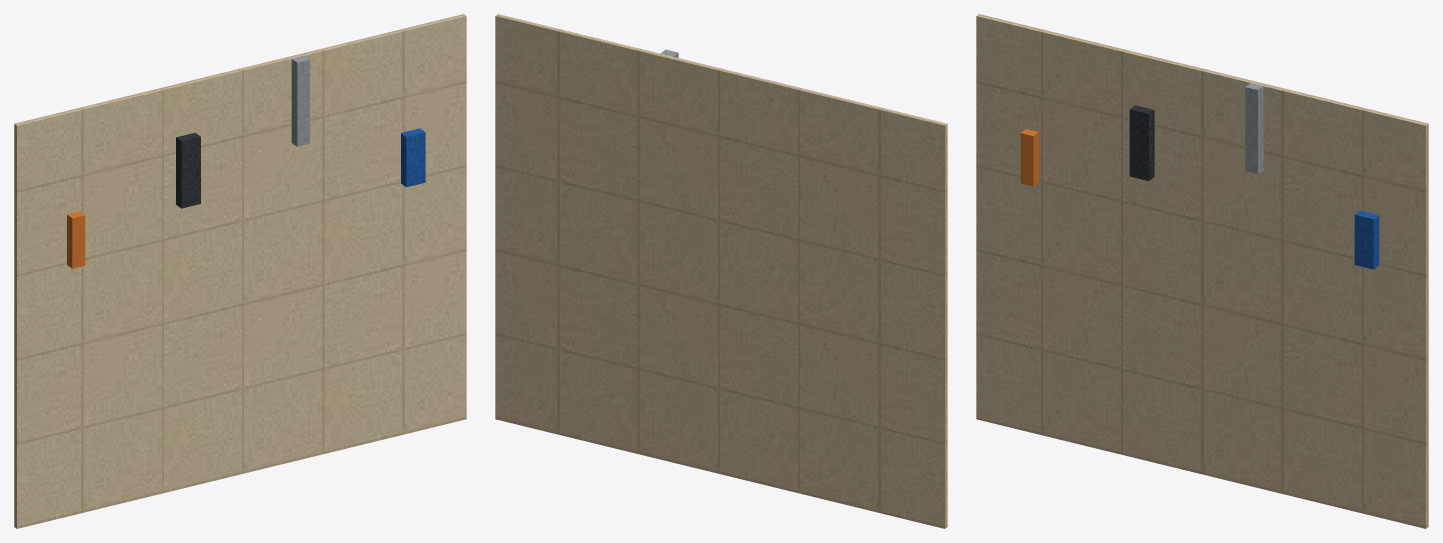
The picture shows the model from 3 angles, left to right: view 1: azimuth 30°, elevation 25°; view 2: azimuth 150°, elevation 25°; view 3: azimuth 330°, elevation 25°; orthographic projection.
Visible parts, largest first — view 1: Decor_tool_pegboard; view 2: Decor_tool_pegboard; view 3: Decor_tool_pegboard.
Part boxes in pixels (box(x1,y1,x2,y2)): Decor_tool_pegboard: box(14, 14, 466, 528); Decor_tool_pegboard: box(495, 14, 947, 528); Decor_tool_pegboard: box(976, 14, 1428, 528).
Size of the model in its own units: 2.8 by 2.4 by 0.09.
Materials: 5 (5 with a texture image).
